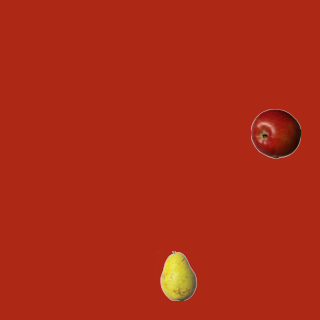Apple Braeburn: (250, 108, 300, 158)
Pear Monster: (153, 250, 203, 300)
